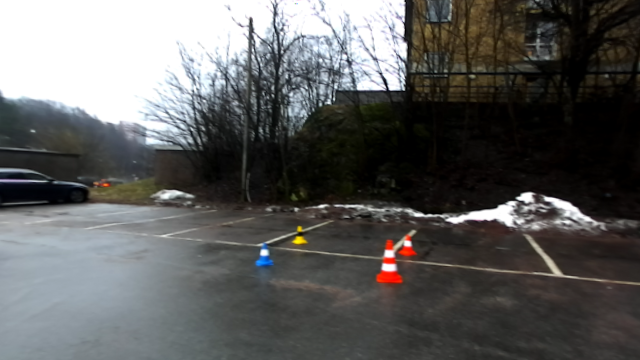blue: (254, 242, 274, 268)
orange: (398, 232, 417, 260)
orange2: (377, 236, 403, 287)
yellow: (291, 225, 309, 246)
